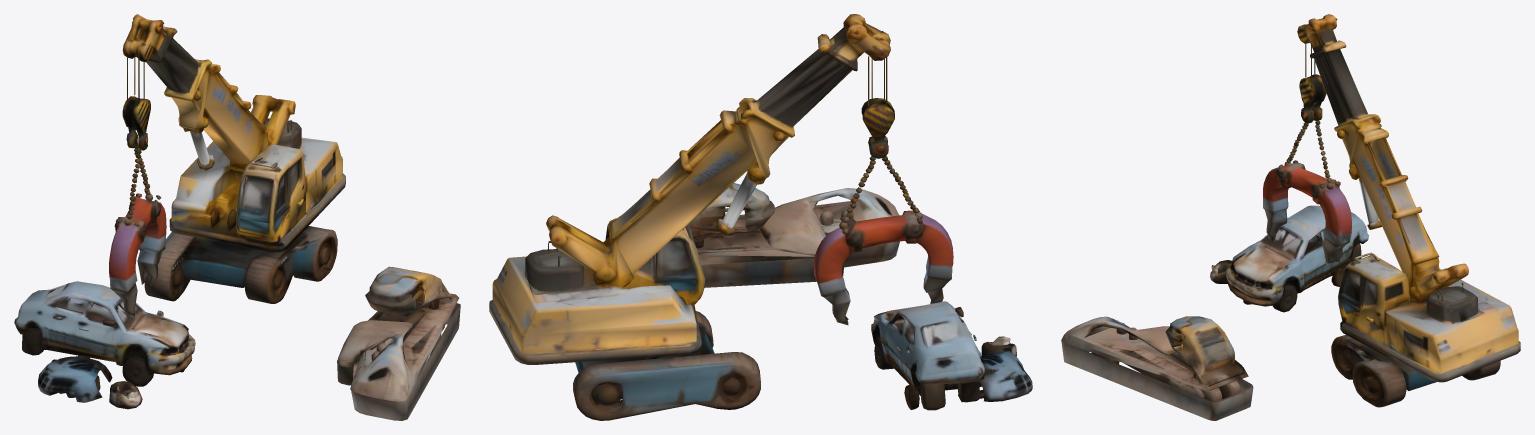
File: heavy_machinery__crane_from_junk_yard_with_magnet_for_lifting_cars_db884752_v2.glb
The picture shows the model from 3 angles, left to right: view 1: azimuth 30°, elevation 25°; view 2: azimuth 150°, elevation 25°; view 3: azimuth 270°, elevation 25°; orthographic projection. The views are drawn at different scales.
Parts seen in each view (by area): view 1: material; view 2: material; view 3: material.
Boxes of the visible parts, x1=… form: material: x1=14, y1=14, x2=460, y2=420; material: x1=489, y1=14, x2=1032, y2=420; material: x1=1061, y1=14, x2=1520, y2=420.
Bounding box in the file's own units: 1.7 × 1.35 × 1.9.
1 material, 1 textured.
